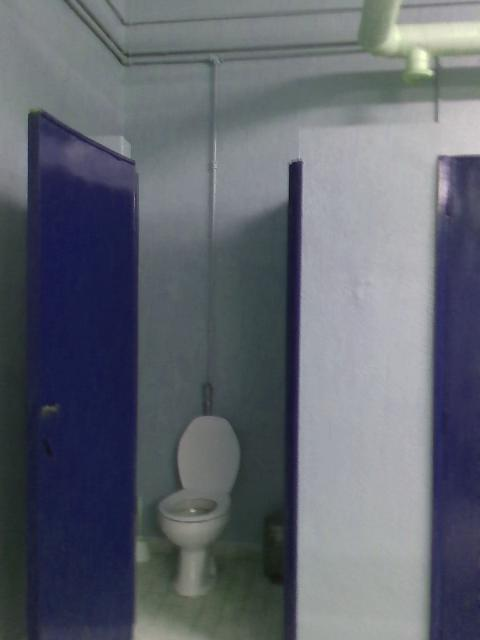open_door: (111, 136, 301, 638)
